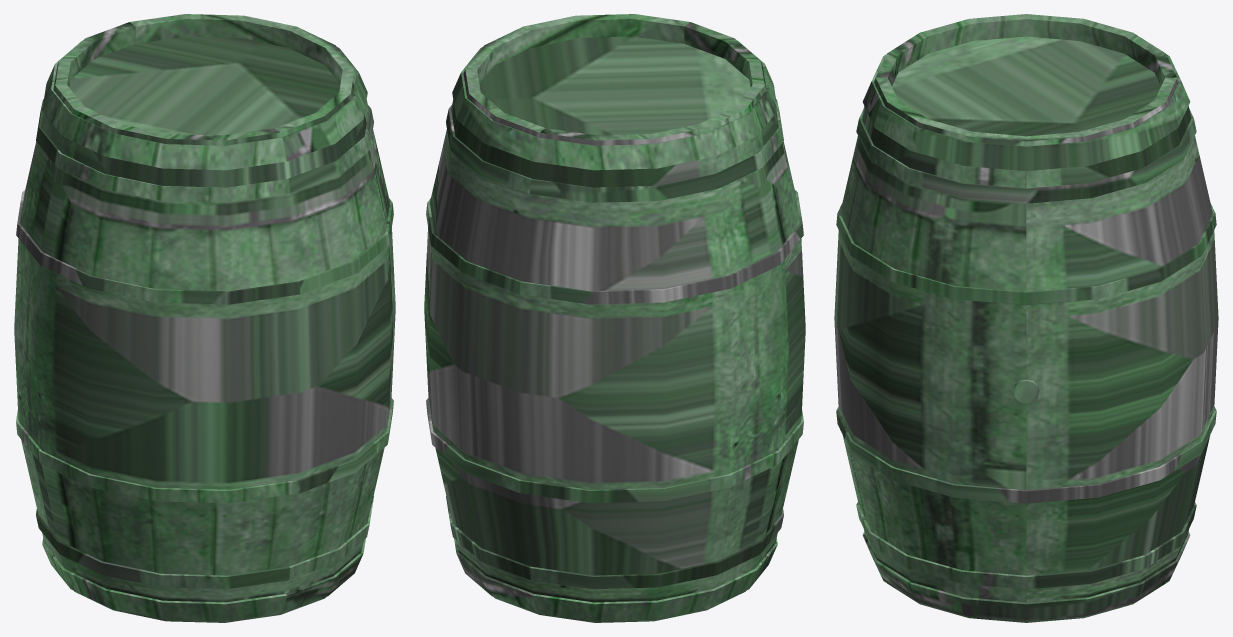
Rendered from Barrel.fbx.
3 views of the same model, side by side, from view 1: azimuth 30°, elevation 25°; view 2: azimuth 150°, elevation 25°; view 3: azimuth 270°, elevation 25° (orthographic).
Visible parts, largest first — view 1: Barrel; view 2: Barrel; view 3: Barrel.
Boxes of the visible parts, <box> form: Barrel: <box>14,14,395,622</box>; Barrel: <box>424,14,805,622</box>; Barrel: <box>834,14,1218,622</box>.
Size of the model in its own units: 185 by 255 by 184.
